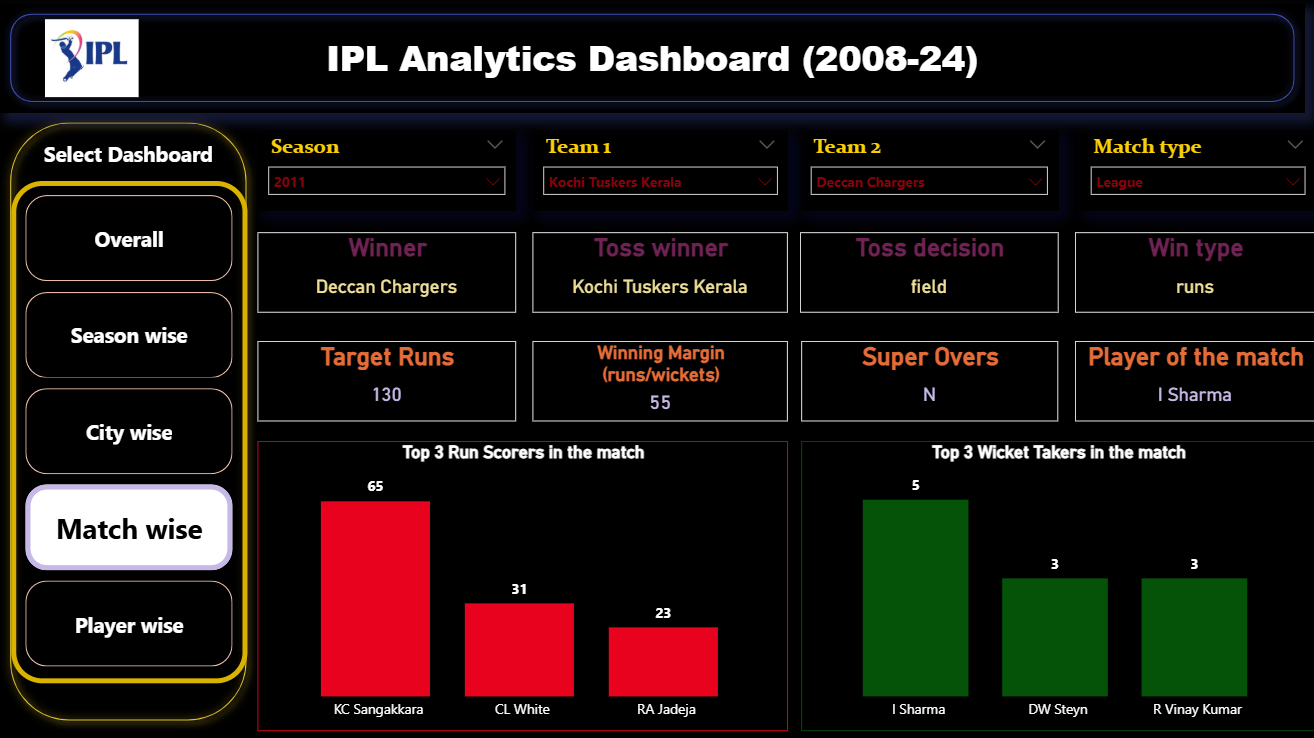

The page's visual inventory and layout, read from the dashboard file:
{"tool":"powerbi","page":{"name":"Match wise","canvas":[1280,720],"ordinal":3},"visuals":[{"type":"shape","box":[10.1,112.5,248.2,597.3],"z":0},{"type":"shape","box":[10.1,7.2,1259.5,105.3],"z":1000},{"type":"slicer","fields":{"Values":["matches.season"]},"box":[258.3,128.4,249.6,79.4],"z":2000},{"type":"slicer","fields":{"Values":["matches.team1"]},"box":[523.7,128.4,246.7,79.4],"z":3000},{"type":"slicer","fields":{"Values":["matches.team2"]},"box":[782,128.4,249.6,79.4],"z":4000},{"type":"card","title":"Winner","fields":{"Values":["Min(matches.winner)"]},"box":[258.3,228,249.6,77.9],"z":5000},{"type":"slicer","fields":{"Values":["matches.match_type"]},"box":[1051.8,128.4,228,79.4],"z":6000},{"type":"card","title":"Toss winner","fields":{"Values":["Min(matches.toss_winner)"]},"box":[523.7,228,246.7,77.9],"z":7000},{"type":"card","title":"Toss decision","fields":{"Values":["Min(matches.toss_decision)"]},"box":[782,228,249.6,77.9],"z":8000},{"type":"card","title":"Win type","fields":{"Values":["Min(matches.result)"]},"box":[1047.4,228,232.3,77.9],"z":9000},{"type":"card","title":"Target Runs","fields":{"Values":["Sum(matches.target_runs)"]},"box":[258.3,333.3,249.6,77.9],"z":10000},{"type":"card","title":"Winning Margin (runs/wickets)","fields":{"Values":["Min(matches.Result-Margin)"]},"box":[523.7,333.3,246.7,77.9],"z":11000},{"type":"card","title":"Super Overs","fields":{"Values":["Min(matches.super_over)"]},"box":[783.4,333.3,248.2,77.9],"z":12000},{"type":"card","title":"Player of the match","fields":{"Values":["Min(matches.player_of_match)"]},"box":[1047.4,333.3,232.3,77.9],"z":13000},{"type":"clusteredColumnChart","title":"Top 3 Run Scorers in the match","fields":{"Category":["deliveries.batter"],"Y":["Team1Table.Top 3 Run Scorers"]},"box":[258.3,429.9,512.2,279.9],"z":14000},{"type":"clusteredColumnChart","title":"Top 3 Wicket Takers in the match","fields":{"Category":["deliveries.bowler"],"Y":["Team1Table.Top 3 Wicket Takers"]},"box":[783.4,429.9,496.3,279.9],"z":15000},{"type":"pageNavigator","box":[20.5,178.6,228,485],"z":16000},{"type":"image","box":[33.8,16.9,100.1,86.9],"z":16001}]}

Visuals, with their boxes in screenshot pixels (x1, y1, x2, y2), scaled from the page's 1280x720 canvas onto the 1314x738 screenshot:
shape: x1=10 y1=115 x2=265 y2=728
shape: x1=10 y1=7 x2=1303 y2=115
slicer - matches.season: x1=265 y1=132 x2=521 y2=213
slicer - matches.team1: x1=538 y1=132 x2=791 y2=213
slicer - matches.team2: x1=803 y1=132 x2=1059 y2=213
"Winner" card: x1=265 y1=234 x2=521 y2=314
slicer - matches.match_type: x1=1080 y1=132 x2=1313 y2=213
"Toss winner" card: x1=538 y1=234 x2=791 y2=314
"Toss decision" card: x1=803 y1=234 x2=1059 y2=314
"Win type" card: x1=1075 y1=234 x2=1313 y2=314
"Target Runs" card: x1=265 y1=342 x2=521 y2=421
"Winning Margin (runs/wickets)" card: x1=538 y1=342 x2=791 y2=421
"Super Overs" card: x1=804 y1=342 x2=1059 y2=421
"Player of the match" card: x1=1075 y1=342 x2=1313 y2=421
"Top 3 Run Scorers in the match" clusteredColumnChart: x1=265 y1=441 x2=791 y2=728
"Top 3 Wicket Takers in the match" clusteredColumnChart: x1=804 y1=441 x2=1313 y2=728
pageNavigator: x1=21 y1=183 x2=255 y2=680
image: x1=35 y1=17 x2=137 y2=106
